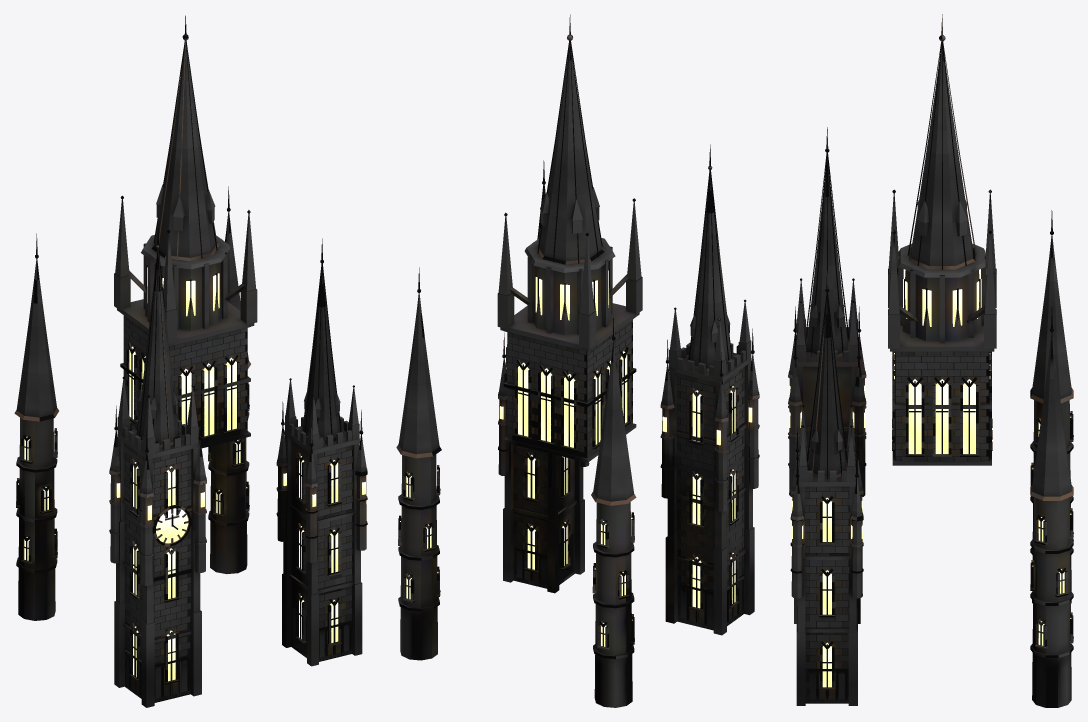
Rendered from gothic_towers-GI.glb.
3 renders of one model, left to right at view 1: azimuth 30°, elevation 25°; view 2: azimuth 150°, elevation 25°; view 3: azimuth 270°, elevation 25°, orthographic. The views are drawn at different scales.
Visible parts, largest first — view 1: main.001, glow.001; view 2: main.001, glow.001; view 3: main.001, glow.001.
Boxes of the visible parts, bbox=[...] form: main.001: bbox=[14, 15, 367, 707]; glow.001: bbox=[18, 267, 365, 681]; main.001: bbox=[396, 14, 759, 707]; glow.001: bbox=[400, 270, 752, 646]; main.001: bbox=[788, 14, 1073, 707]; glow.001: bbox=[789, 269, 1071, 687].
Size of the model in its own units: 26.42 by 67.4 by 27.34.
Materials: 3 (1 with a texture image).
